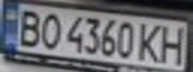0: (115, 18, 139, 60)
3: (81, 15, 103, 55)
4: (63, 12, 87, 53)
6: (100, 17, 121, 57)
B: (12, 7, 45, 47)
H: (157, 22, 190, 65)
K: (136, 20, 166, 63)
O: (33, 10, 63, 51)
